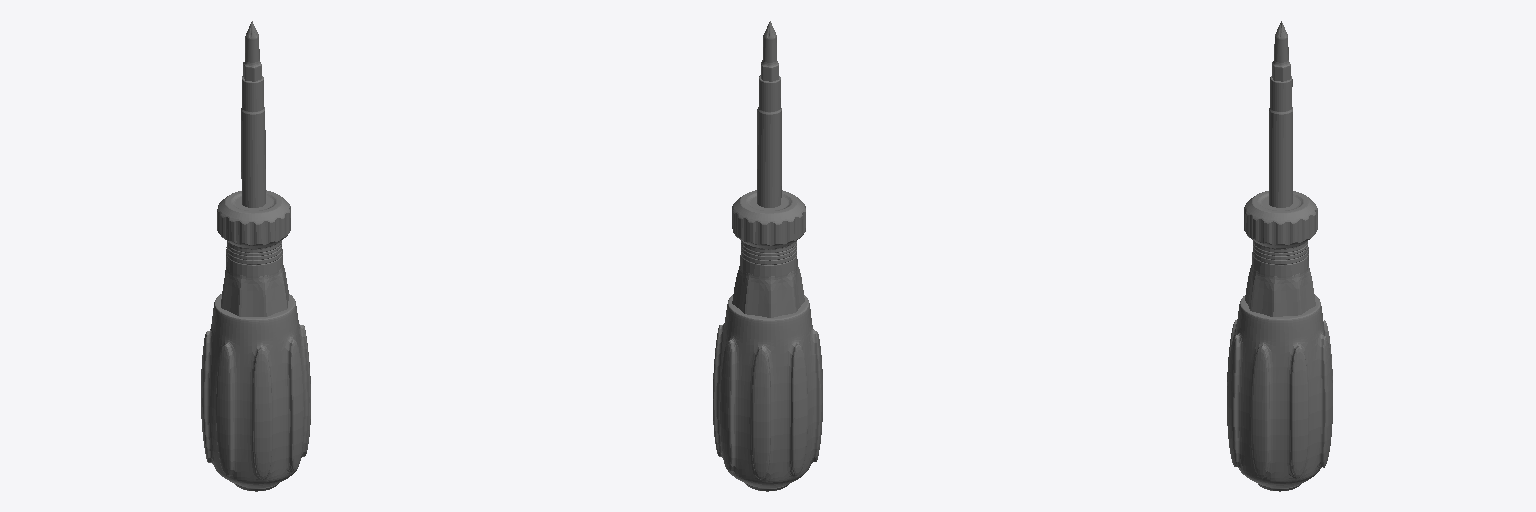
URDF robot description (object):
<?xml version="1.0"?>
<robot name="object">
  <link name="object">
    <visual>
      <origin xyz="0 0 0"/>
      <geometry>
        <mesh
          filename="../../mesh/oakink_virtual/screwdriver_4.stl" />
      </geometry>
      <material name="mat">
        <color rgba="0.5 0.5 0.5 1"/>
      </material>
    </visual>

    <collision>
      <origin xyz="0 0 0"/>
      <geometry>
        <mesh
          filename="../../mesh/oakink_virtual/screwdriver_4.stl" />
      </geometry>
    </collision>
  </link>
</robot>

--- Render facts (derived) ---
The picture shows the robot from 3 angles, left to right: view 1: azimuth 30°, elevation 25°; view 2: azimuth 150°, elevation 25°; view 3: azimuth 270°, elevation 25°; orthographic projection.
Robot: object — 1 links, 0 joints (none); root link object; default pose: every joint at zero.
Visible links, largest first — view 1: object; view 2: object; view 3: object.
Link boxes in pixels (bbox=[...]): object: bbox=[201, 21, 310, 491]; object: bbox=[713, 21, 822, 491]; object: bbox=[1227, 21, 1332, 491].
Bounding box of the posed robot: 0.0447 × 0.0447 × 0.2141 m (x, y, z).
Meshes: 1 distinct files referenced, 1 mesh visuals loaded (1 binary STL).